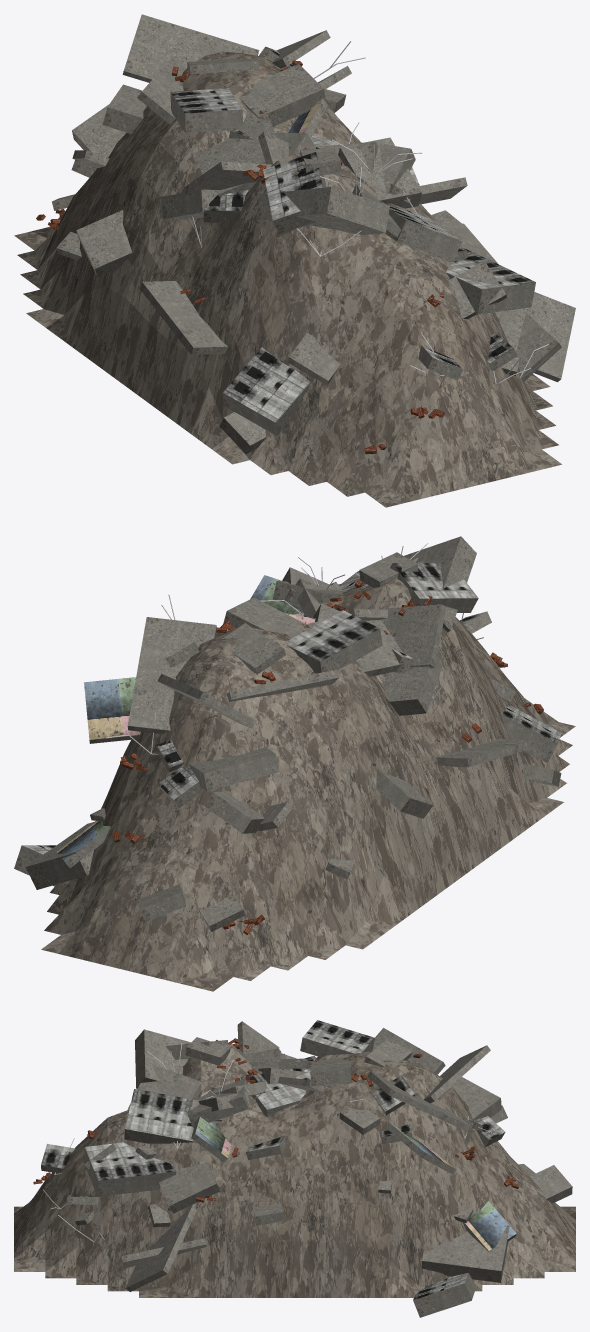
File: S1U_RubbleMound_L.fbx
3 renders of one model, top to bottom at view 1: azimuth 30°, elevation 25°; view 2: azimuth 150°, elevation 25°; view 3: azimuth 270°, elevation 25°, orthographic. The views are drawn at different scales.
Parts seen in each view (by area): view 1: S1U_RubbleMound_L; view 2: S1U_RubbleMound_L; view 3: S1U_RubbleMound_L.
Part boxes in pixels (x1,y1,x2,y2): S1U_RubbleMound_L: (14, 14, 575, 507); S1U_RubbleMound_L: (14, 536, 575, 991); S1U_RubbleMound_L: (14, 1020, 575, 1317).
Bounding box in the file's own units: 9.59 × 7.08 × 17.
